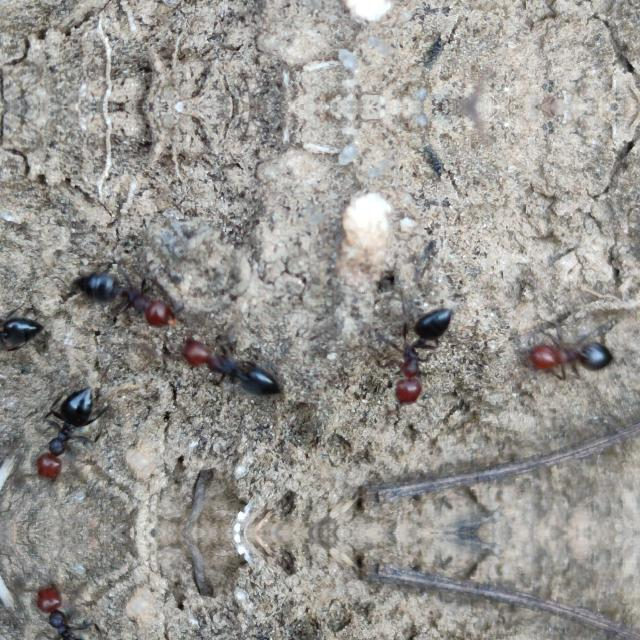Crematogaster: (24, 370, 102, 484), (390, 302, 460, 414), (180, 328, 280, 402), (78, 266, 180, 334), (24, 579, 102, 640), (520, 332, 606, 380), (0, 296, 52, 356)
